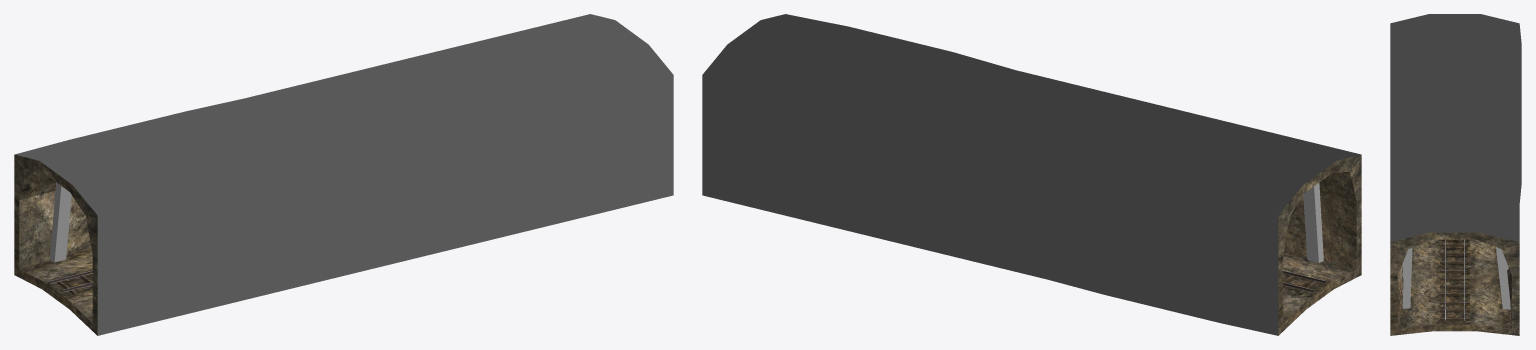
File: svgoldmine01.dae
3 views of the same model, side by side, from view 1: azimuth 30°, elevation 25°; view 2: azimuth 150°, elevation 25°; view 3: azimuth 270°, elevation 25° (orthographic). The views are drawn at different scales.
Parts seen in each view (by area): view 1: cube2265_copy33-0, cube2265_copy34-0; view 2: cube2265_copy33-0, cube2265_copy34-0; view 3: cube2265_copy33-0, cube4535_copy35-0, cube2265_copy34-0.
Boxes of the visible parts, <box> form: cube2265_copy33-0: <box>14,14,673,335</box>; cube2265_copy34-0: <box>49,182,71,262</box>; cube2265_copy33-0: <box>702,14,1361,335</box>; cube2265_copy34-0: <box>1303,183,1323,262</box>; cube2265_copy33-0: <box>1390,14,1521,335</box>; cube4535_copy35-0: <box>1440,239,1469,322</box>; cube2265_copy34-0: <box>1402,247,1510,309</box>.
Size of the model in its own units: 6000 by 1344 by 1525.
